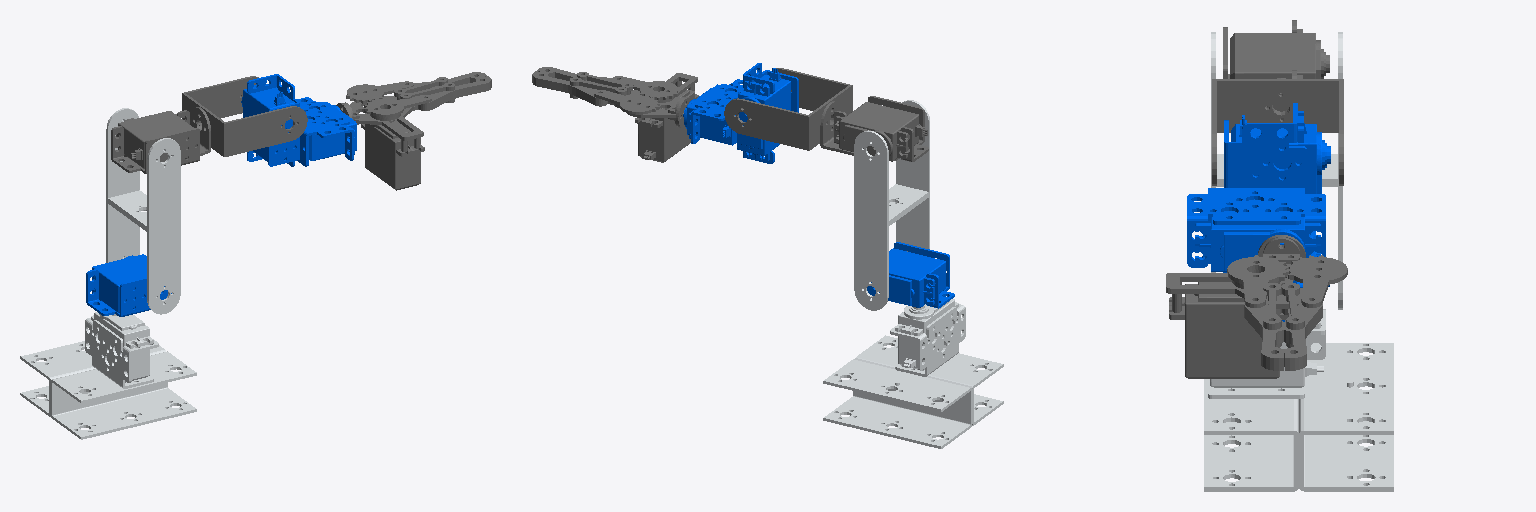
robot.urdf — servo_arm:
<?xml version="1.0" encoding="utf-8"?>
<!-- This URDF was automatically created by SolidWorks to URDF Exporter! Originally created by [author] ([email redacted]) 
     Commit Version: 1.6.0-1-g15f4949  Build Version: 1.6.7594.29634
     For more information, please see http://wiki.ros.org/sw_urdf_exporter -->
<robot
  name="servo_arm">
  <link
    name="base_link">
    <inertial>
      <origin
        xyz="-0.00048821 -0.0056768 0.025501"
        rpy="0 0 0" />
      <mass
        value="0.14393" />
      <inertia
        ixx="4.6375E-05"
        ixy="-1.426E-08"
        ixz="4.236E-07"
        iyy="8.819E-05"
        iyz="-8.4986E-08"
        izz="9.2744E-05" />
    </inertial>
    <visual>
      <origin
        xyz="0 0 0"
        rpy="0 0 0" />
      <geometry>
        <mesh
          filename="package://servo_arm/meshes/base_link.STL" />
      </geometry>
      <material
        name="">
        <color
          rgba="0.89804 0.91765 0.92941 1" />
      </material>
    </visual>
    <collision>
      <origin
        xyz="0 0 0"
        rpy="0 0 0" />
      <geometry>
        <mesh
          filename="package://servo_arm/meshes/base_link.STL" />
      </geometry>
    </collision>
  </link>
  <link
    name="rot_link">
    <inertial>
      <origin
        xyz="0.011605 -0.0051384 0.010361"
        rpy="0 0 0" />
      <mass
        value="0.04575" />
      <inertia
        ixx="8.0962E-06"
        ixy="-8.4986E-08"
        ixz="1.6429E-09"
        iyy="1.0277E-05"
        iyz="4.236E-07"
        izz="1.455E-05" />
    </inertial>
    <visual>
      <origin
        xyz="0 0 0"
        rpy="0 0 0" />
      <geometry>
        <mesh
          filename="package://servo_arm/meshes/rot_link.STL" />
      </geometry>
      <material
        name="">
        <color
          rgba="0 0.47059 1 1" />
      </material>
    </visual>
    <collision>
      <origin
        xyz="0 0 0"
        rpy="0 0 0" />
      <geometry>
        <mesh
          filename="package://servo_arm/meshes/rot_link.STL" />
      </geometry>
    </collision>
  </link>
  <joint
    name="rot_joint"
    type="revolute">
    <origin
      xyz="0.00014502 -0.00765 0.0788"
      rpy="0 0 0" />
    <parent
      link="base_link" />
    <child
      link="rot_link" />
    <axis
      xyz="0 0 1" />
    <limit
      lower="-1.57"
      upper="1.57"
      effort="10"
      velocity="10" />
  </joint>
  <link
    name="vert_link">
    <inertial>
      <origin
        xyz="2.528E-12 -0.0019173 0.051"
        rpy="0 0 0" />
      <mass
        value="0.045902" />
      <inertia
        ixx="4.65E-05"
        ixy="2.5279E-20"
        ixz="2.1191E-20"
        iyy="2.1143E-05"
        iyz="2.1012E-08"
        izz="3.0185E-05" />
    </inertial>
    <visual>
      <origin
        xyz="0 0 0"
        rpy="0 0 0" />
      <geometry>
        <mesh
          filename="package://servo_arm/meshes/vert_link.STL" />
      </geometry>
      <material
        name="">
        <color
          rgba="0.89804 0.91765 0.92941 1" />
      </material>
    </visual>
    <collision>
      <origin
        xyz="0 0 0"
        rpy="0 0 0" />
      <geometry>
        <mesh
          filename="package://servo_arm/meshes/vert_link.STL" />
      </geometry>
    </collision>
  </link>
  <joint
    name="vert_joint"
    type="revolute">
    <origin
      xyz="0.021504 0 0.012042"
      rpy="0 0 0" />
    <parent
      link="rot_link" />
    <child
      link="vert_link" />
    <axis
      xyz="0 -1 0" />
    <limit
      lower="-1.57"
      upper="1.57"
      effort="10"
      velocity="10" />
  </joint>
  <link
    name="hor_link">
    <inertial>
      <origin
        xyz="0.0299858372755309 -0.00357139808845294 -0.00116328779407313"
        rpy="0 0 0" />
      <mass
        value="0.0756059834208811" />
      <inertia
        ixx="2.39528336246925E-05"
        ixy="7.43744294317816E-08"
        ixz="-3.20999247152233E-07"
        iyy="2.20886898553342E-05"
        iyz="4.23597363903195E-07"
        izz="3.89949347558978E-05" />
    </inertial>
    <visual>
      <origin
        xyz="0 0 0"
        rpy="0 0 0" />
      <geometry>
        <mesh
          filename="package://servo_arm/meshes/hor_link.STL" />
      </geometry>
      <material
        name="">
        <color
          rgba="0.498039215686275 0.498039215686275 0.498039215686275 1" />
      </material>
    </visual>
    <collision>
      <origin
        xyz="0 0 0"
        rpy="0 0 0" />
      <geometry>
        <mesh
          filename="package://servo_arm/meshes/hor_link.STL" />
      </geometry>
    </collision>
  </link>
  <joint
    name="hor_link"
    type="revolute">
    <origin
      xyz="0 0 0.102"
      rpy="0 0 0" />
    <parent
      link="vert_link" />
    <child
      link="hor_link" />
    <axis
      xyz="0 1 0" />
    <limit
      lower="-1.57"
      upper="1.57"
      effort="10"
      velocity="10" />
  </joint>
  <link
    name="grip_rot_link">
    <inertial>
      <origin
        xyz="0.016901 -0.0073817 -0.014684"
        rpy="0 0 0" />
      <mass
        value="0.0915" />
      <inertia
        ixx="2.4828E-05"
        ixy="-5.0858E-07"
        ixz="-4.2524E-07"
        iyy="1.8374E-05"
        iyz="-8.6629E-08"
        izz="2.2646E-05" />
    </inertial>
    <visual>
      <origin
        xyz="0 0 0"
        rpy="0 0 0" />
      <geometry>
        <mesh
          filename="package://servo_arm/meshes/grip_rot_link.STL" />
      </geometry>
      <material
        name="">
        <color
          rgba="0 0.47059 1 1" />
      </material>
    </visual>
    <collision>
      <origin
        xyz="0 0 0"
        rpy="0 0 0" />
      <geometry>
        <mesh
          filename="package://servo_arm/meshes/grip_rot_link.STL" />
      </geometry>
    </collision>
  </link>
  <joint
    name="grip_rot_joint"
    type="revolute">
    <origin
      xyz="0.097504 0 0.0019578"
      rpy="0 0 0" />
    <parent
      link="hor_link" />
    <child
      link="grip_rot_link" />
    <axis
      xyz="0 1 0" />
    <limit
      lower="-1.57"
      upper="1.57"
      effort="10"
      velocity="10" />
  </joint>
  <link
    name="gripper">
    <inertial>
      <origin
        xyz="0.035088 -0.014362 -0.013764"
        rpy="0 0 0" />
      <mass
        value="0.048503" />
      <inertia
        ixx="1.0299E-05"
        ixy="-1.3455E-08"
        ixz="-4.7081E-10"
        iyy="8.1992E-06"
        iyz="-1.4078E-07"
        izz="1.0427E-05" />
    </inertial>
    <visual>
      <origin
        xyz="0 0 0"
        rpy="0 0 0" />
      <geometry>
        <mesh
          filename="package://servo_arm/meshes/gripper.STL" />
      </geometry>
      <material
        name="">
        <color
          rgba="0.49804 0.49804 0.49804 1" />
      </material>
    </visual>
    <collision>
      <origin
        xyz="0 0 0"
        rpy="0 0 0" />
      <geometry>
        <mesh
          filename="package://servo_arm/meshes/gripper.STL" />
      </geometry>
    </collision>
  </link>
  <joint
    name="gripper_joint"
    type="revolute">
    <origin
      xyz="0.058342 0.00016731 -0.021151"
      rpy="0 0 0" />
    <parent
      link="grip_rot_link" />
    <child
      link="gripper" />
    <axis
      xyz="1 0 0" />
    <limit
      lower="-1.57"
      upper="1.57"
      effort="10"
      velocity="10" />
  </joint>
</robot>

--- What the picture shows (computed from the rendered views, not written in the file) ---
3 views of the same robot in one strip: view 1: azimuth 30°, elevation 25°; view 2: azimuth 150°, elevation 25°; view 3: azimuth 270°, elevation 25° (orthographic).
Robot: servo_arm — 6 links, 5 joints (5 revolute); root link base_link; default pose: all joints at 0.
Visible links, largest first — view 1: base_link, vert_link, hor_link, gripper, grip_rot_link, rot_link; view 2: base_link, hor_link, vert_link, gripper, grip_rot_link, rot_link; view 3: base_link, gripper, grip_rot_link, hor_link, vert_link.
Link boxes in pixels (x1,y1,x2,y2): base_link: (20, 312, 196, 439); vert_link: (106, 108, 180, 314); hor_link: (111, 76, 307, 173); gripper: (336, 72, 491, 190); grip_rot_link: (241, 74, 356, 166); rot_link: (86, 254, 171, 316); base_link: (823, 299, 1003, 448); hor_link: (724, 68, 928, 161); vert_link: (854, 100, 929, 310); gripper: (532, 67, 698, 162); grip_rot_link: (683, 63, 798, 163); rot_link: (867, 242, 954, 308); base_link: (1204, 309, 1393, 491); gripper: (1166, 235, 1347, 378); grip_rot_link: (1187, 103, 1330, 271); hor_link: (1212, 20, 1343, 185); vert_link: (1211, 32, 1342, 309).
Bounding box of the posed robot: 0.3366 × 0.0985 × 0.215 m (x, y, z).
6 mesh visuals loaded from 6 distinct referenced files (6 binary STL).